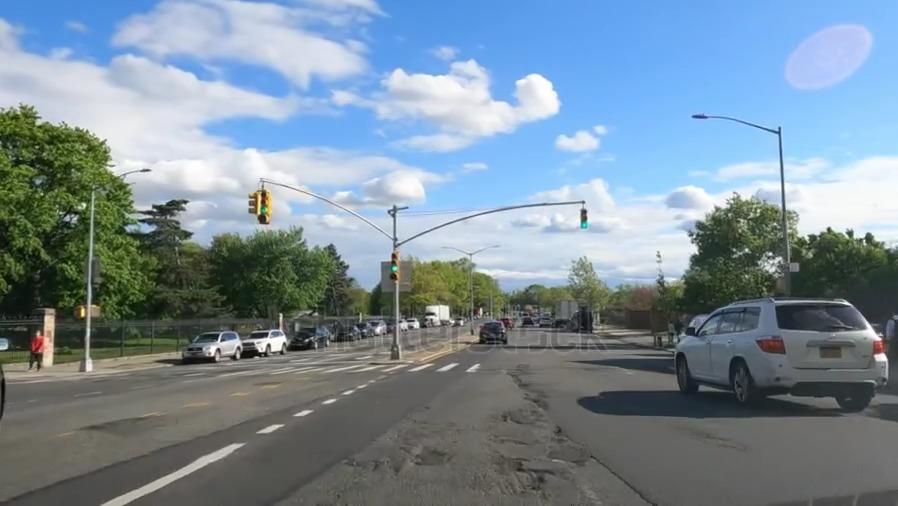bird: (478, 317, 509, 345)
car: (674, 309, 894, 408), (170, 331, 243, 364), (246, 329, 284, 358), (291, 324, 325, 348), (371, 317, 389, 336), (337, 323, 355, 341), (358, 320, 375, 338)
pedestrian: (208, 352, 673, 383)
person: (879, 306, 898, 359), (26, 326, 43, 364), (665, 316, 675, 341), (673, 312, 683, 336)
pothole: (503, 456, 562, 495), (416, 438, 449, 466)
road damage: (497, 362, 549, 404), (547, 421, 591, 469), (504, 401, 557, 430)
traffic light: (246, 182, 276, 233), (386, 249, 405, 282), (578, 203, 593, 232)
